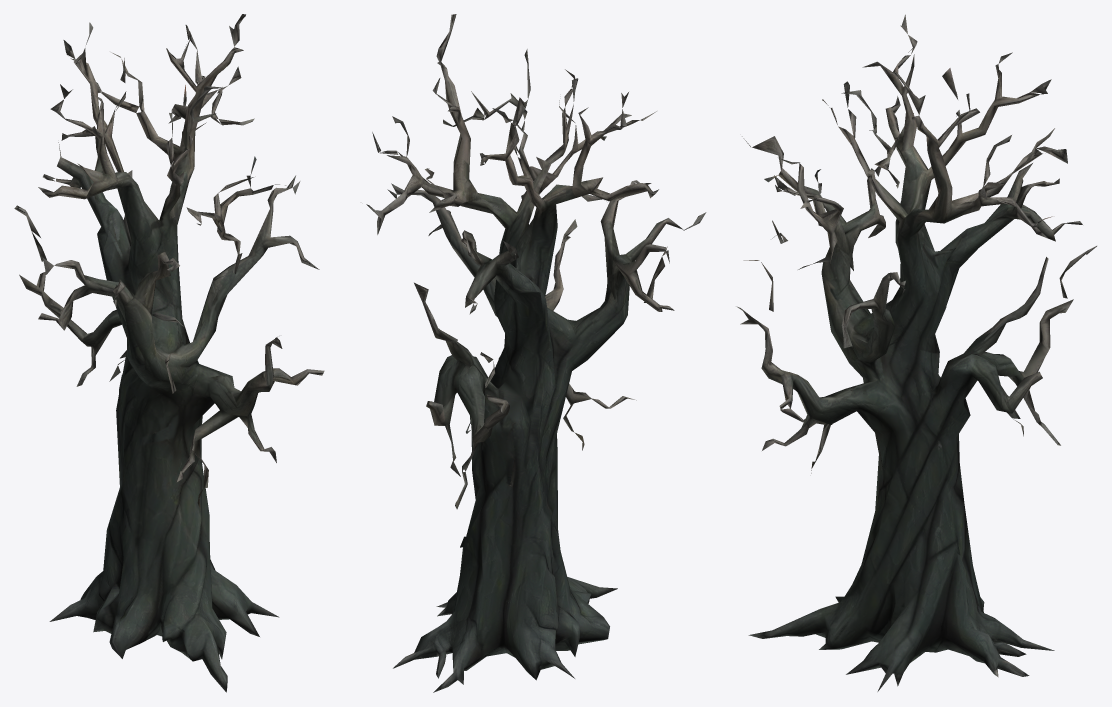
The model's file is dead_tree.glb.
3 renders of one model, left to right at view 1: azimuth 30°, elevation 25°; view 2: azimuth 150°, elevation 25°; view 3: azimuth 270°, elevation 25°, orthographic.
Size of the model in its own units: 0.895 by 1.88 by 1.01.
Materials: 1 (1 with a texture image).
